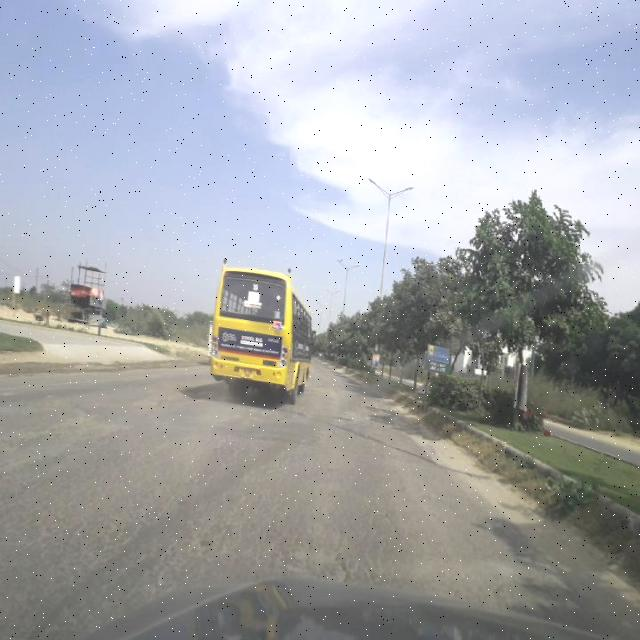D20: (6, 406, 493, 612)
D40: (0, 403, 97, 464), (276, 528, 360, 580), (128, 392, 164, 419)
